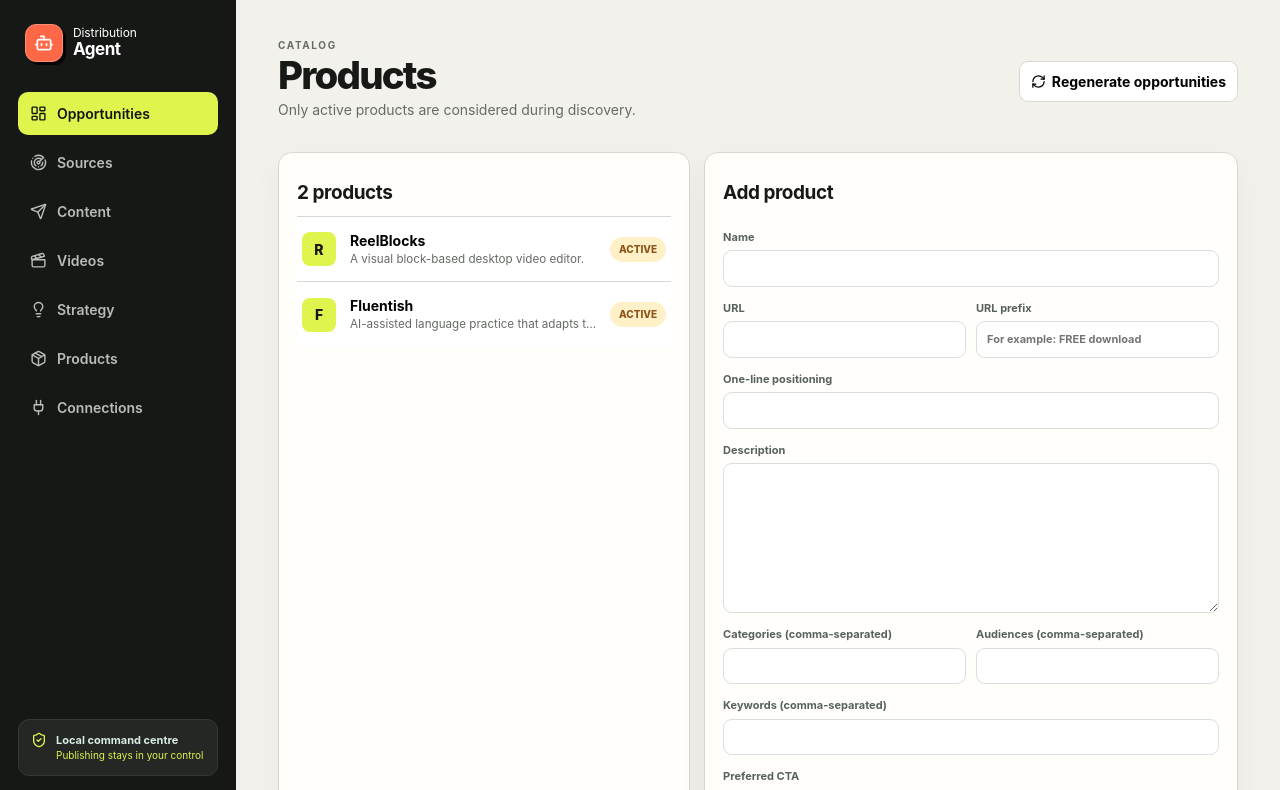
Scenario: product configuration › co-locates URL prefix with URL and preserves its value while editing
Click the button "ReelBlocks": click(319, 249) [297, 216, 671, 281]
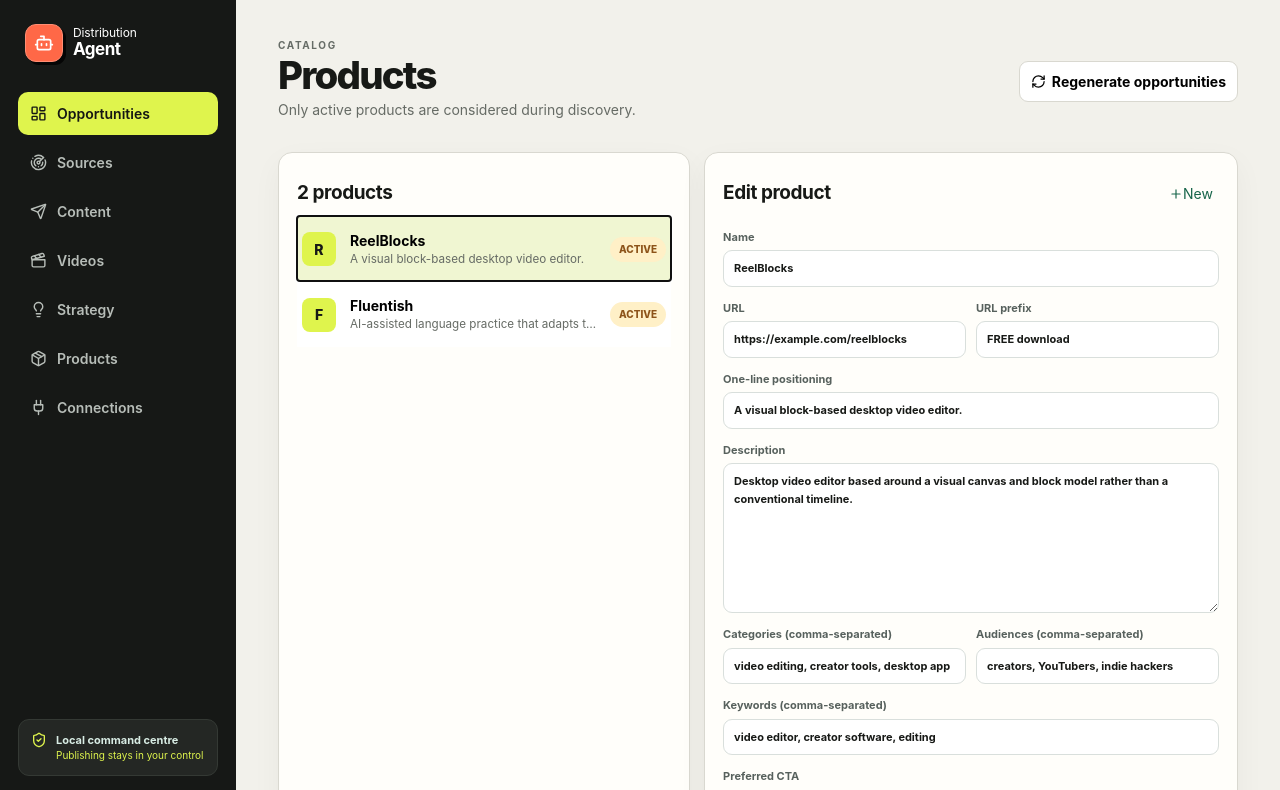
Now the field labelled "URL" holds "https://example.com/reelblocks", box [723, 321, 966, 358]
Now the field labelled "URL prefix" holds "FREE download", box [976, 321, 1219, 358]
